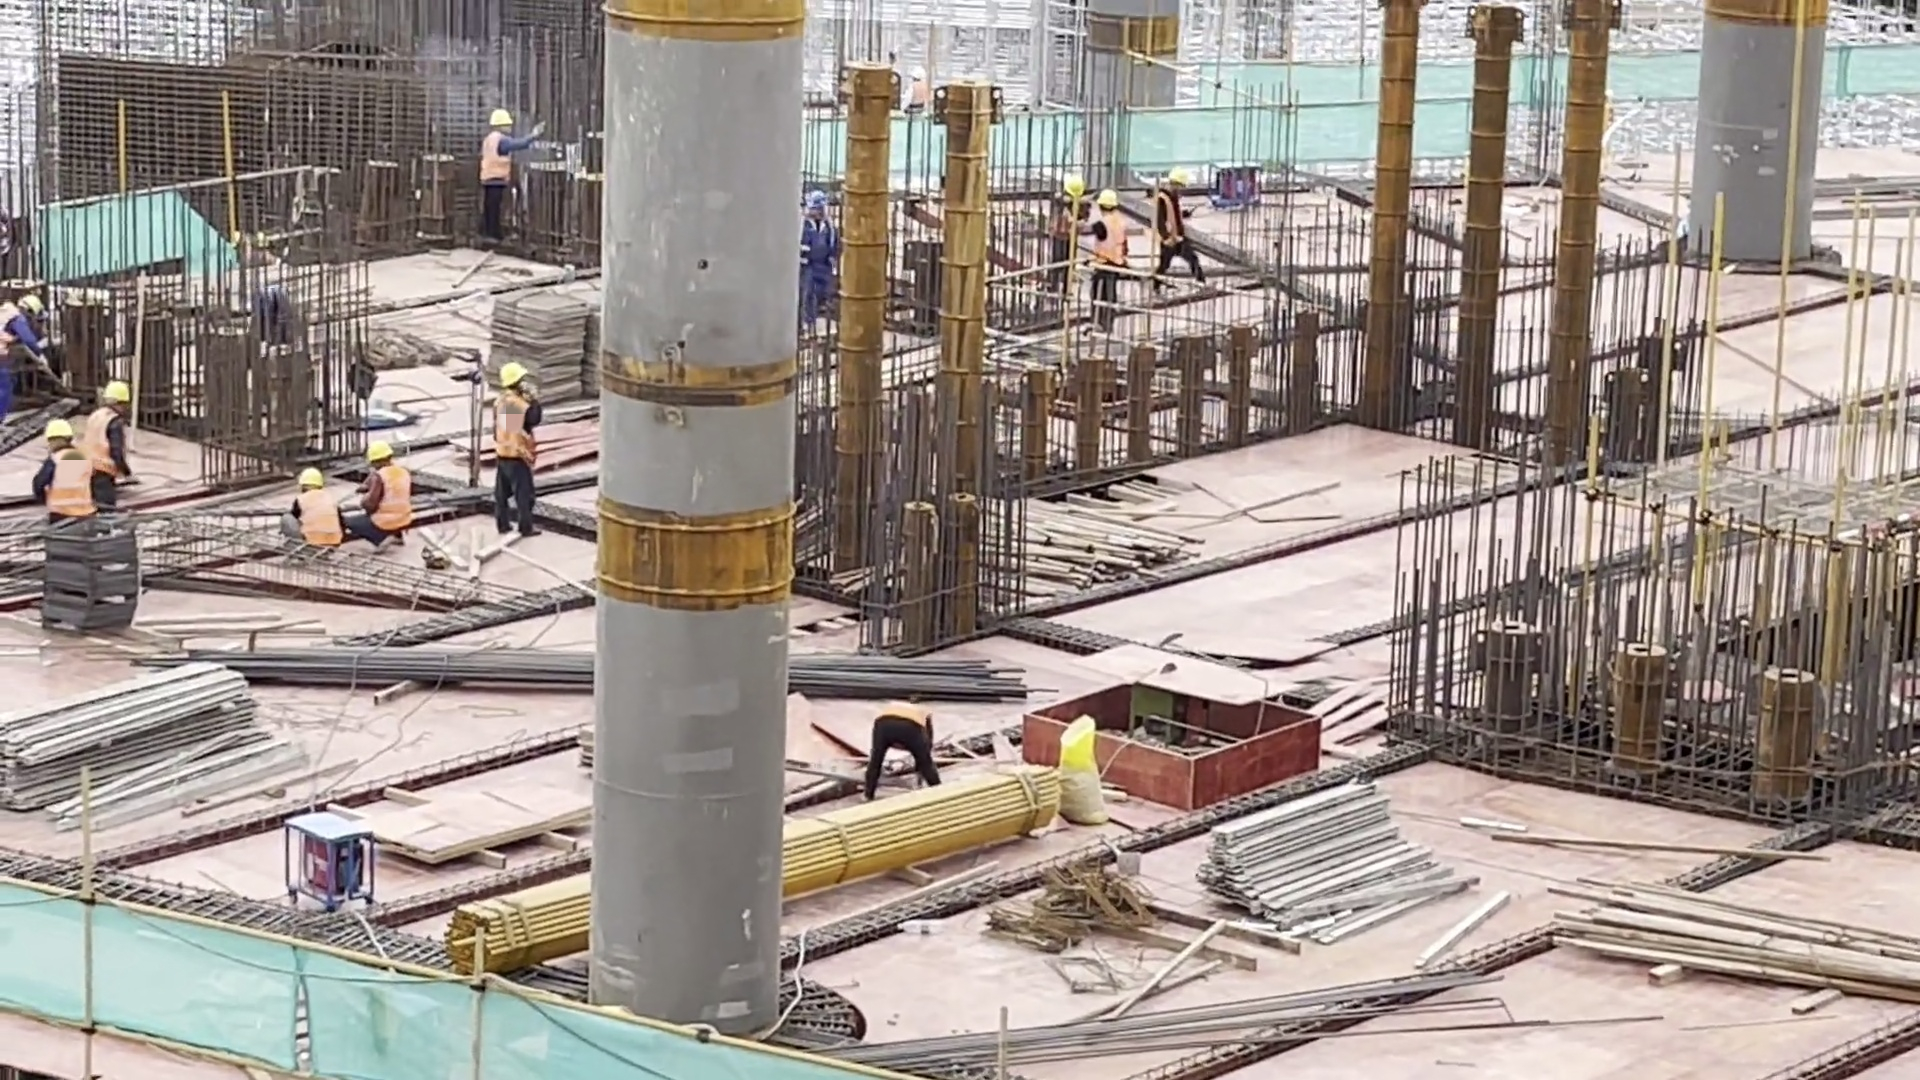helmet: (495, 363, 530, 390), (369, 439, 395, 467), (41, 416, 70, 440), (99, 381, 131, 403), (1064, 175, 1085, 200), (1168, 165, 1190, 188), (298, 469, 322, 489), (1095, 188, 1119, 206), (25, 297, 45, 316)
person: (488, 363, 546, 537), (477, 106, 546, 239), (860, 703, 942, 810), (346, 441, 415, 559), (33, 414, 98, 528), (1151, 163, 1208, 285), (1, 295, 53, 426), (802, 190, 851, 326), (280, 466, 344, 559), (88, 377, 129, 501), (1093, 190, 1128, 332), (1055, 172, 1086, 294)
vest: (42, 446, 96, 517), (494, 386, 538, 463), (367, 464, 415, 531), (297, 487, 346, 547), (86, 406, 123, 477), (1092, 213, 1128, 265)
